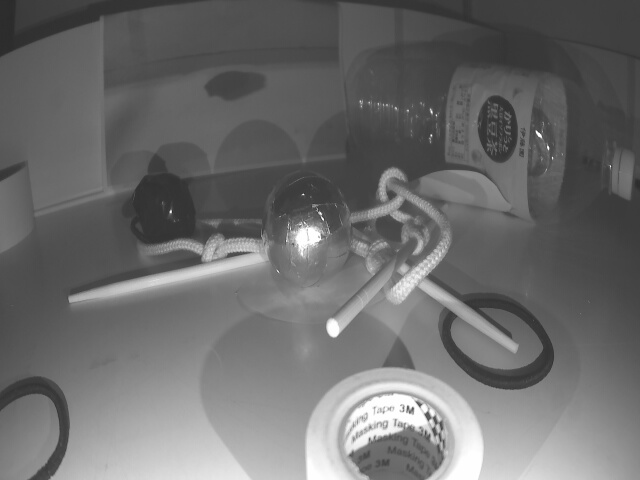Dead: (130, 169, 196, 245)
Live: (260, 171, 351, 290)
